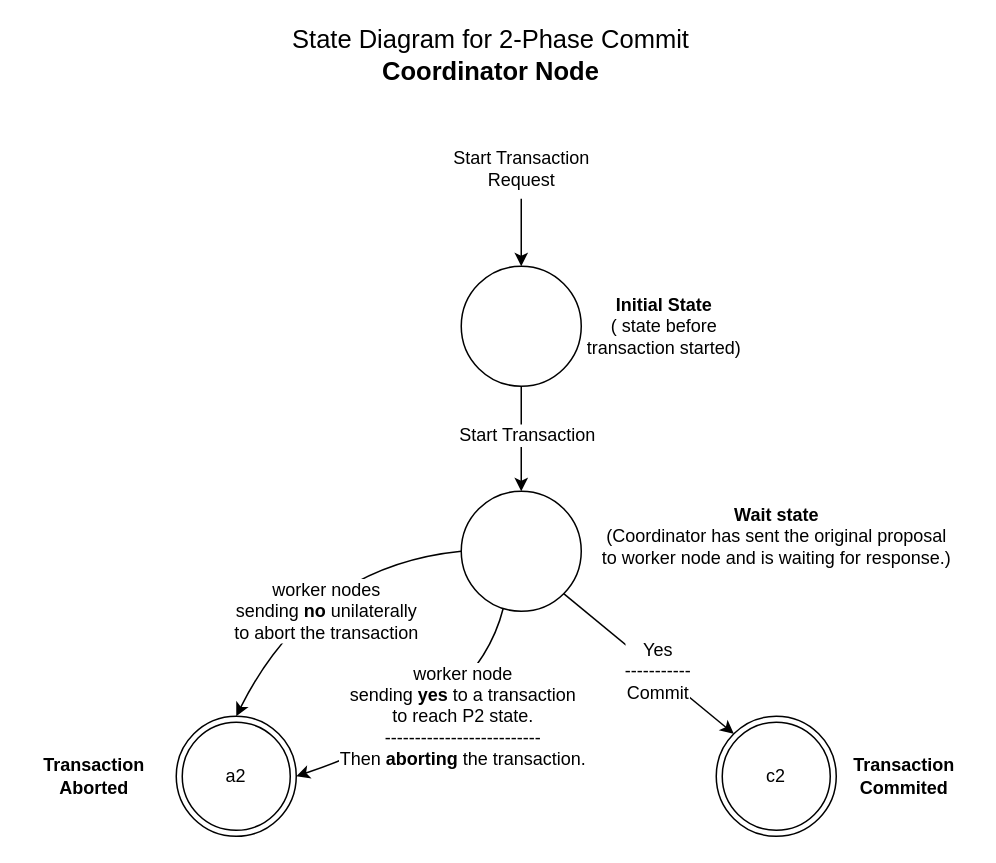
Image size: 996x863. Some labels were removed from this diagram. Here are the shapes that lost their labels. From the top down, the box of each, then its label:
(460, 265, 581, 386): q1
(460, 490, 581, 611): w1
